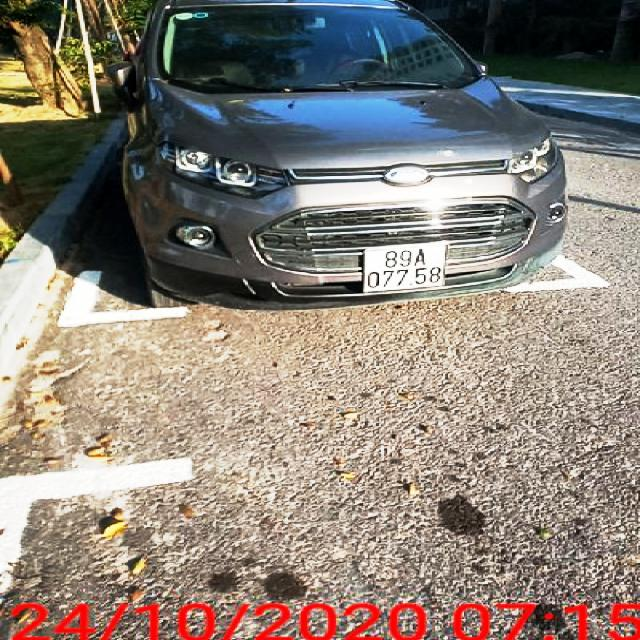license_plate: (366, 243, 448, 295)
